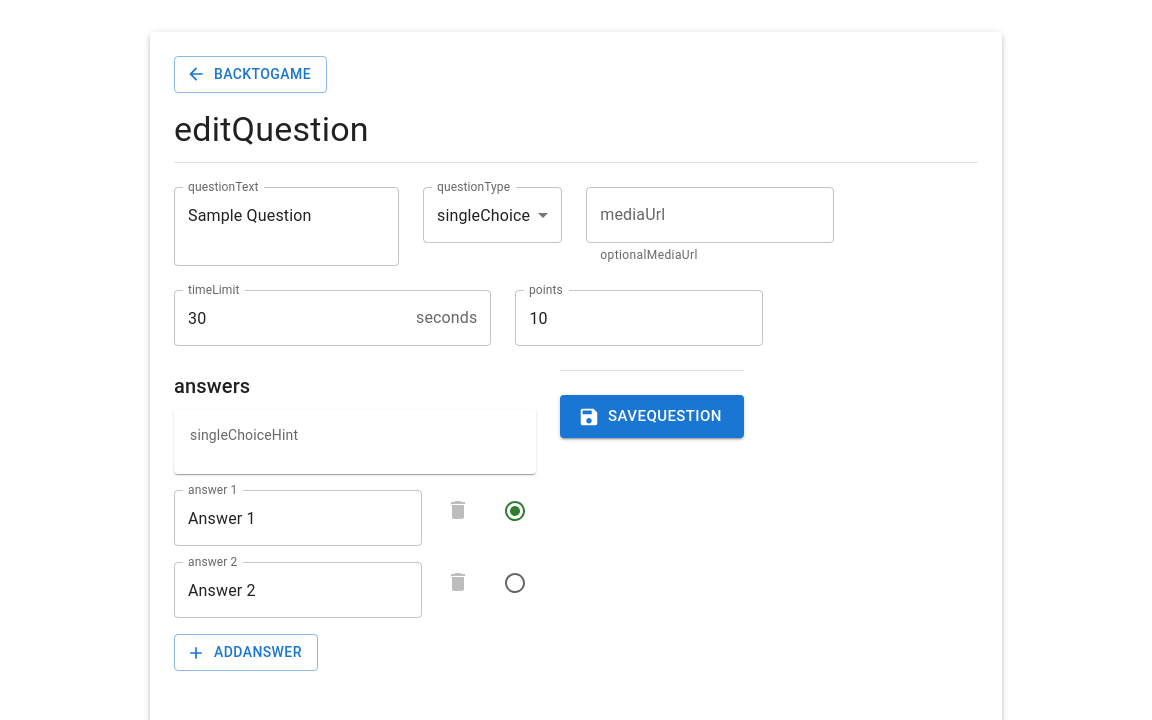
it: QuestionEdit page › shows error if question text is empty when saving
Clear the text box labelled "questionText" at (286, 227), box [188,204,385,250]
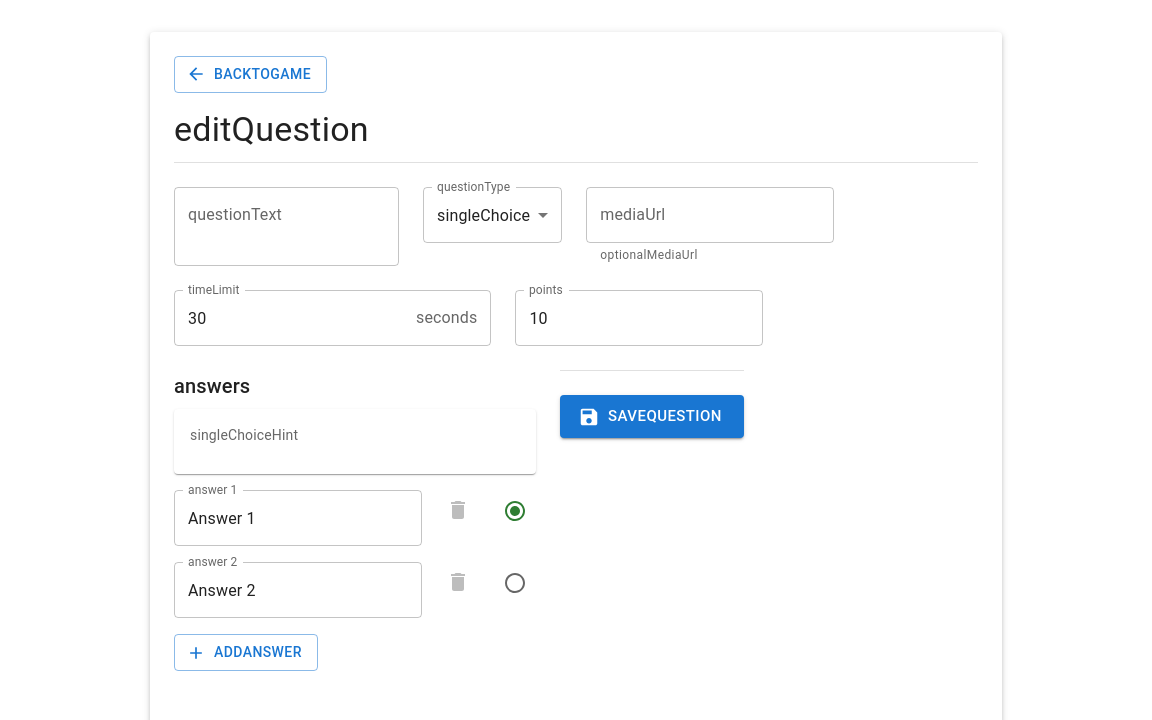
Click the button "saveQuestion" at (652, 417), box [560,395,744,438]
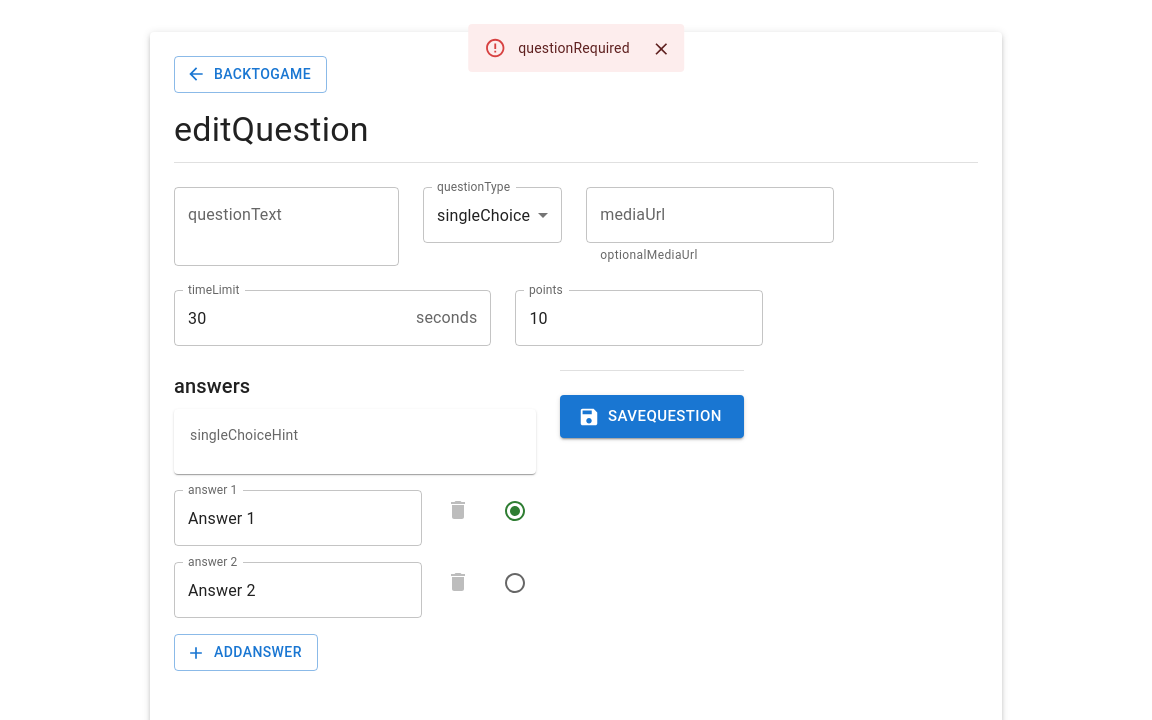
Check: the text "questionRequired" is shown, box [518,40,630,56]
